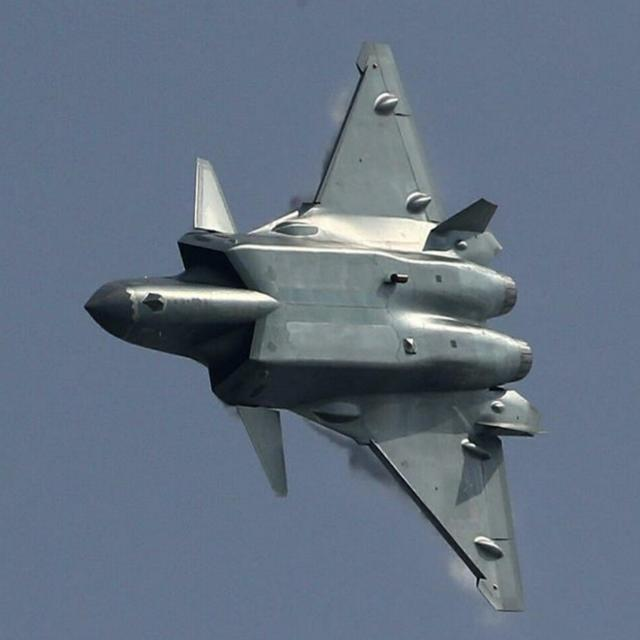MIL_Plane: (83, 41, 548, 613)
